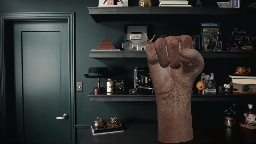Pugno: (141, 33, 207, 98)
